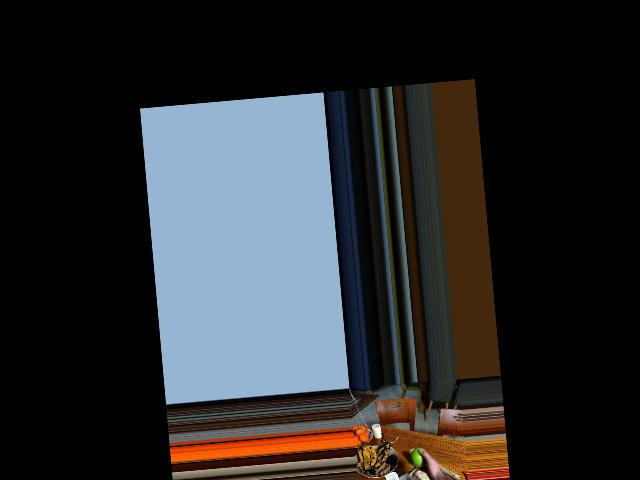apple: (409, 446, 431, 470)
